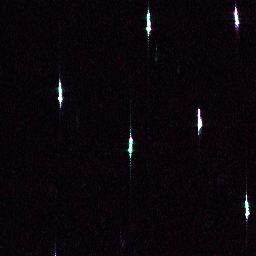ship: (231, 8, 240, 27), (56, 81, 63, 104), (145, 11, 152, 33), (126, 135, 134, 154), (243, 199, 250, 218), (196, 114, 203, 130)
